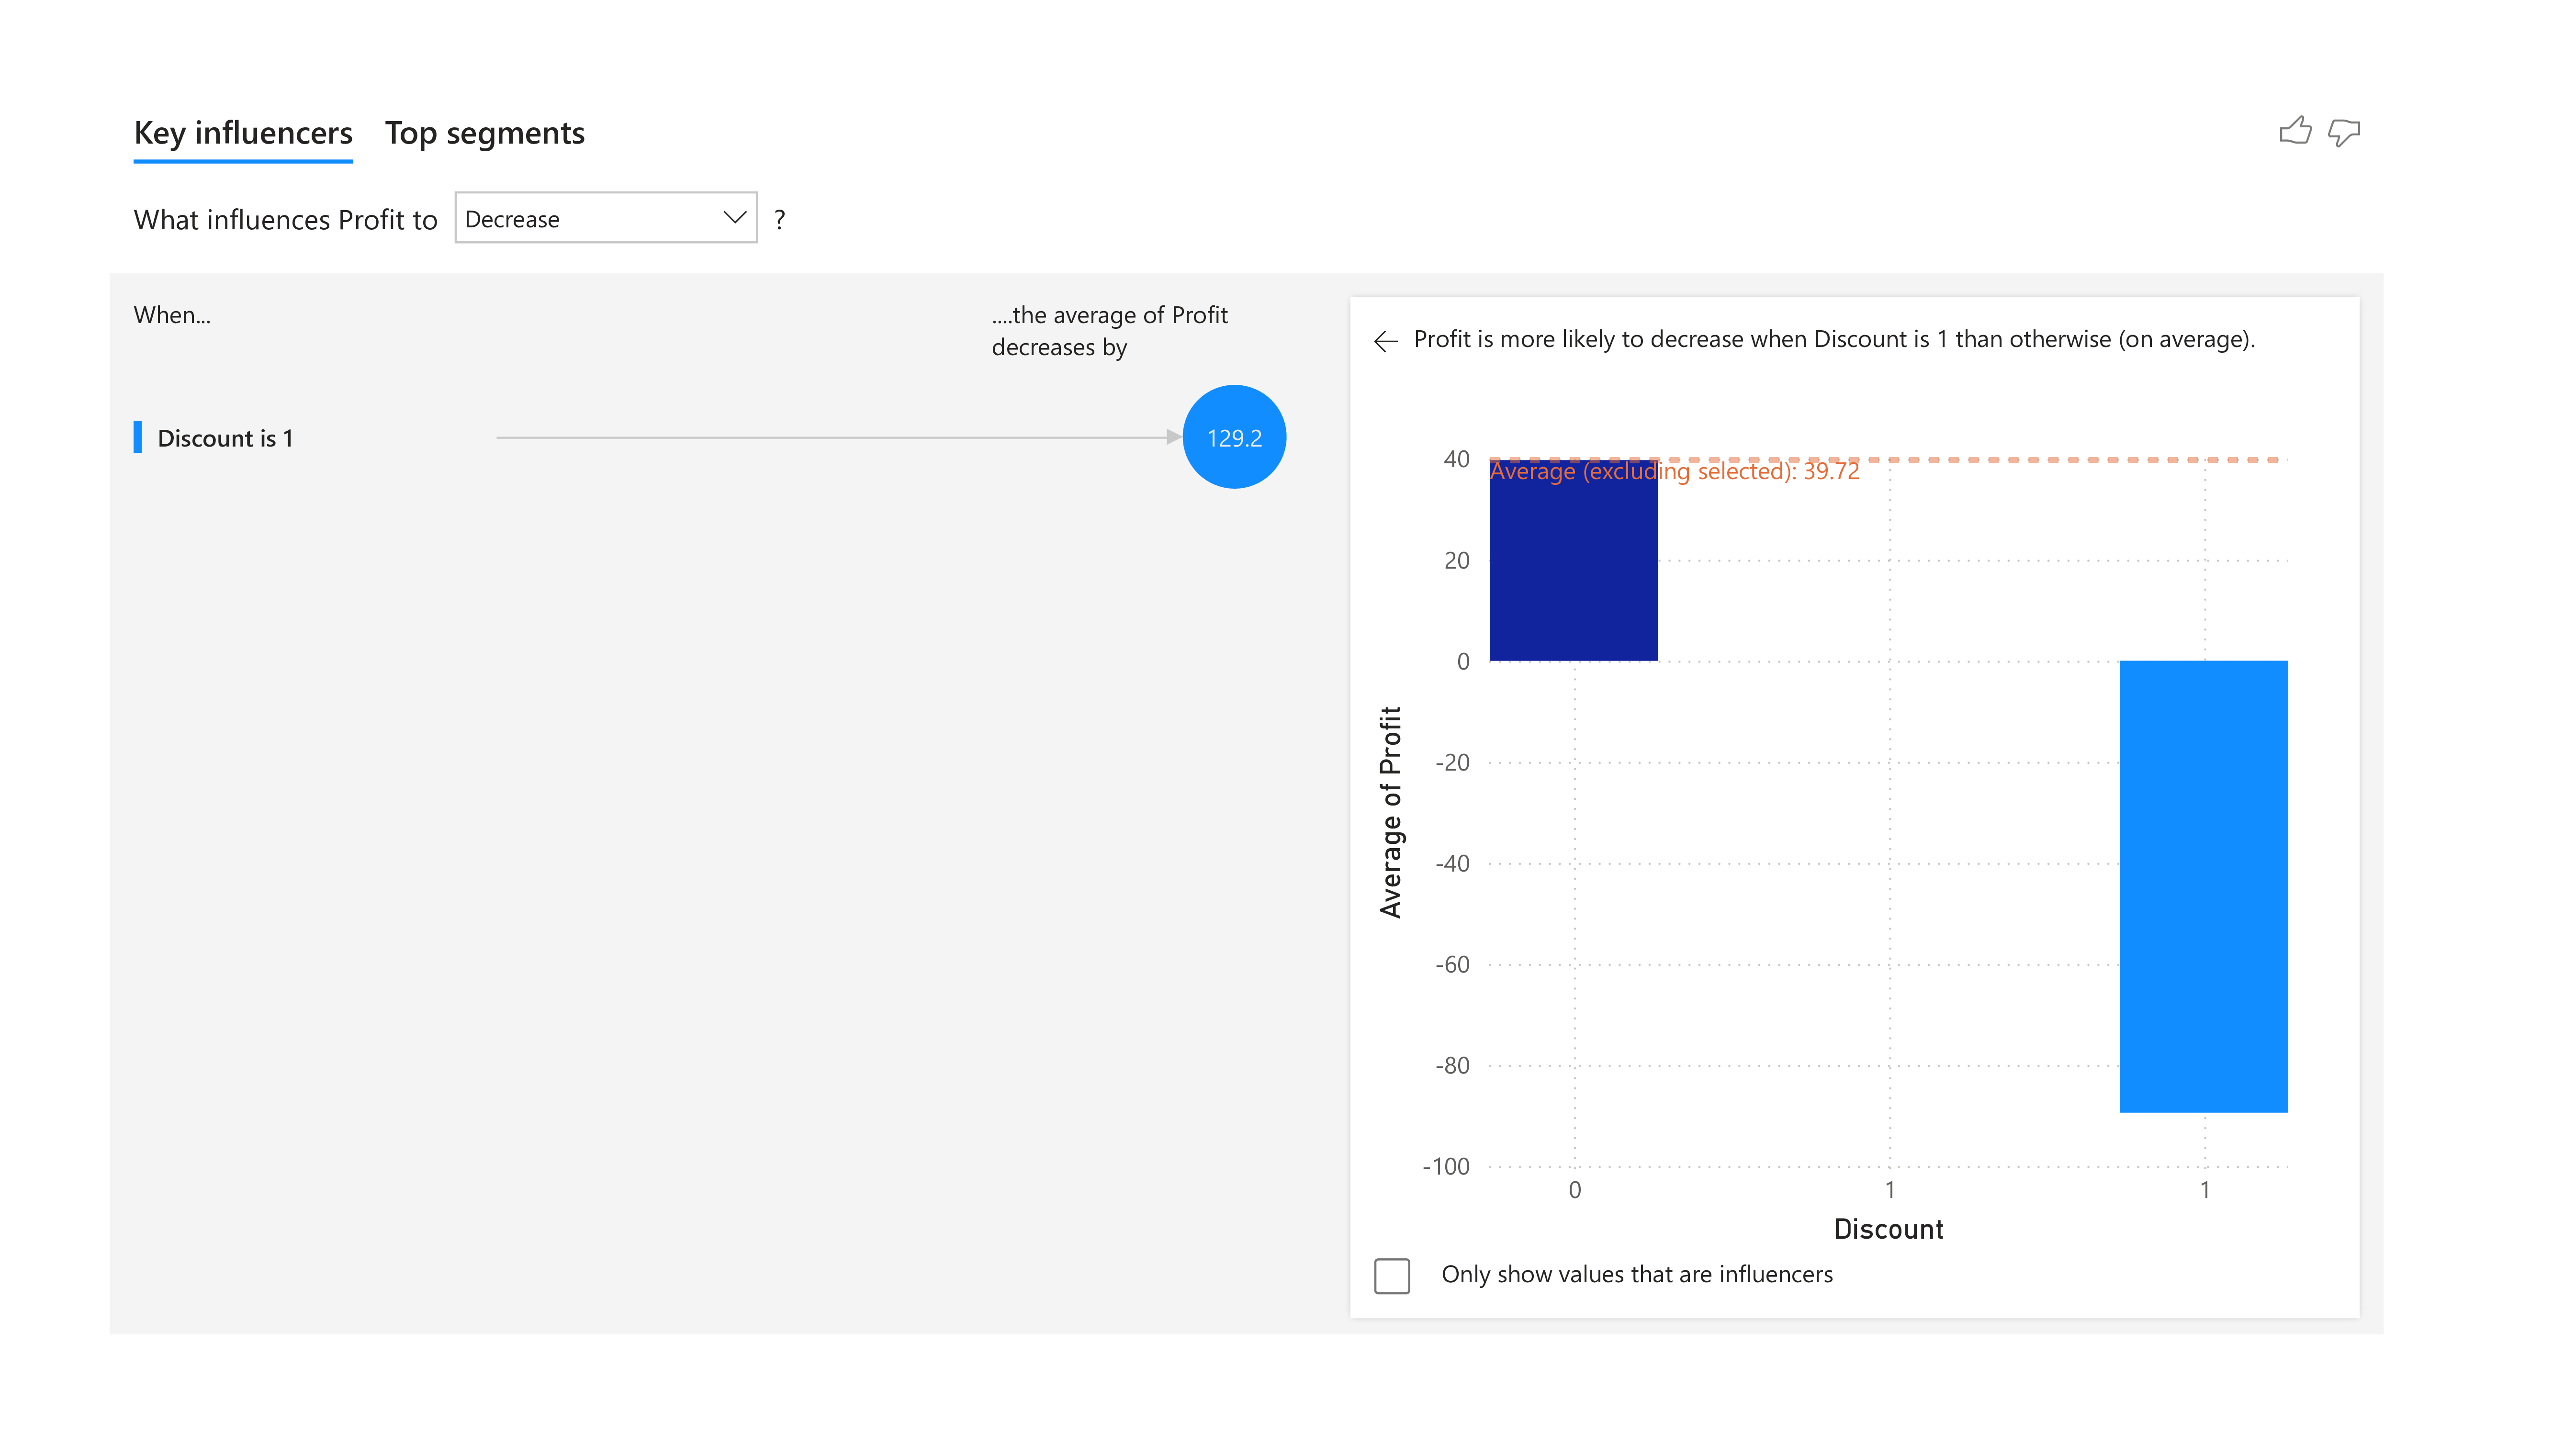

The page's visual inventory and layout, read from the dashboard file:
{"tool":"powerbi","page":{"name":"KI Visual","canvas":[1280,720],"ordinal":15},"visuals":[{"type":"keyDriversVisual","fields":{"Target":["Sales.Profit"],"ExplainBy":["Sales.Discount"]},"box":[50,36.7,1150,631.7],"z":0}]}

Visuals, with their boxes in screenshot pixels (x1, y1, x2, y2), scaled from the page's 1280x720 canvas onto the 2553x1456 screenshot:
keyDriversVisual - Sales.Profit x Sales.Discount: [left=100, top=74, right=2394, bottom=1352]
